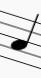note: (10, 10, 39, 71)
